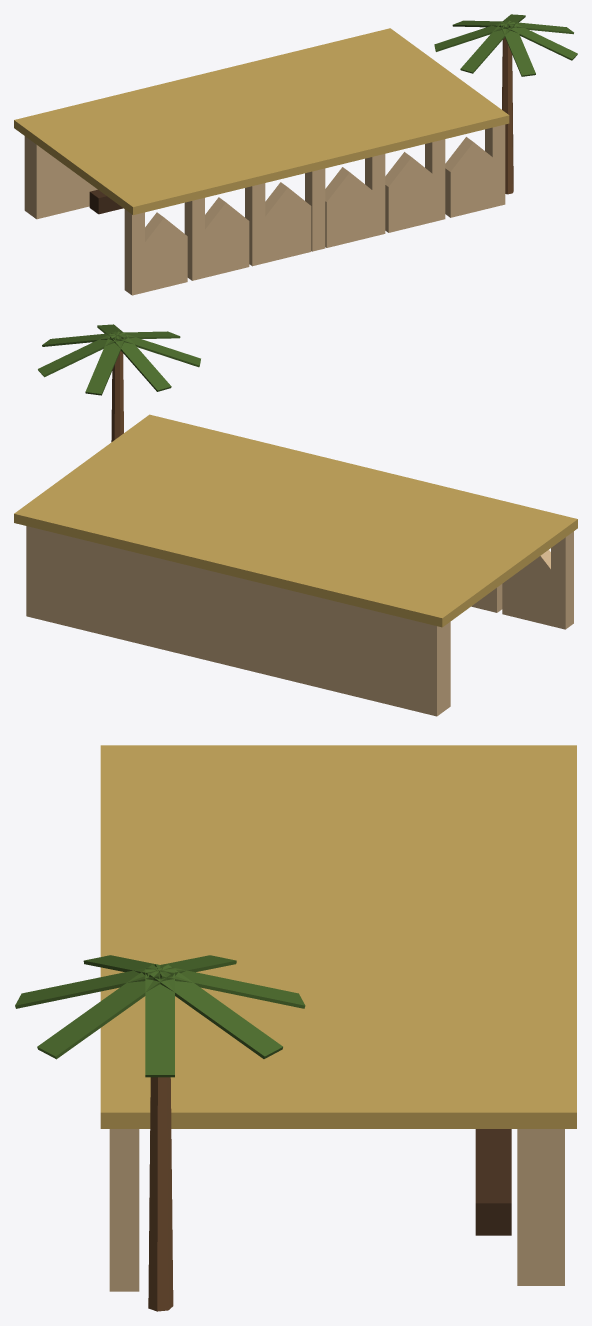
The model's file is stable.glb.
3 renders of one model, top to bottom at view 1: azimuth 30°, elevation 25°; view 2: azimuth 150°, elevation 25°; view 3: azimuth 270°, elevation 25°, orthographic. The views are drawn at different scales.
Visible parts, largest first — view 1: Stable; view 2: Stable; view 3: Stable.
Part boxes in pixels (bbox=[...]): Stable: bbox=[14, 14, 577, 295]; Stable: bbox=[14, 324, 577, 716]; Stable: bbox=[15, 745, 576, 1311].
Bounding box in the file's own units: 17.55 × 6.23 × 9.44.
